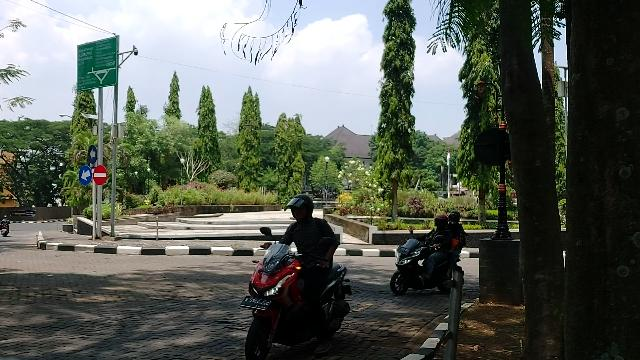helm: (285, 195, 315, 219), (436, 215, 449, 229), (449, 211, 462, 225)
motor: (242, 245, 352, 360), (390, 241, 459, 295)
